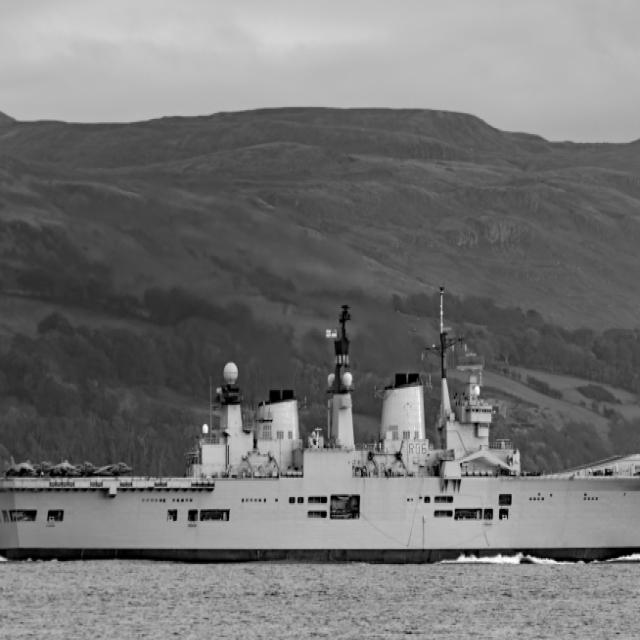Portanaves: (1, 273, 640, 571)
